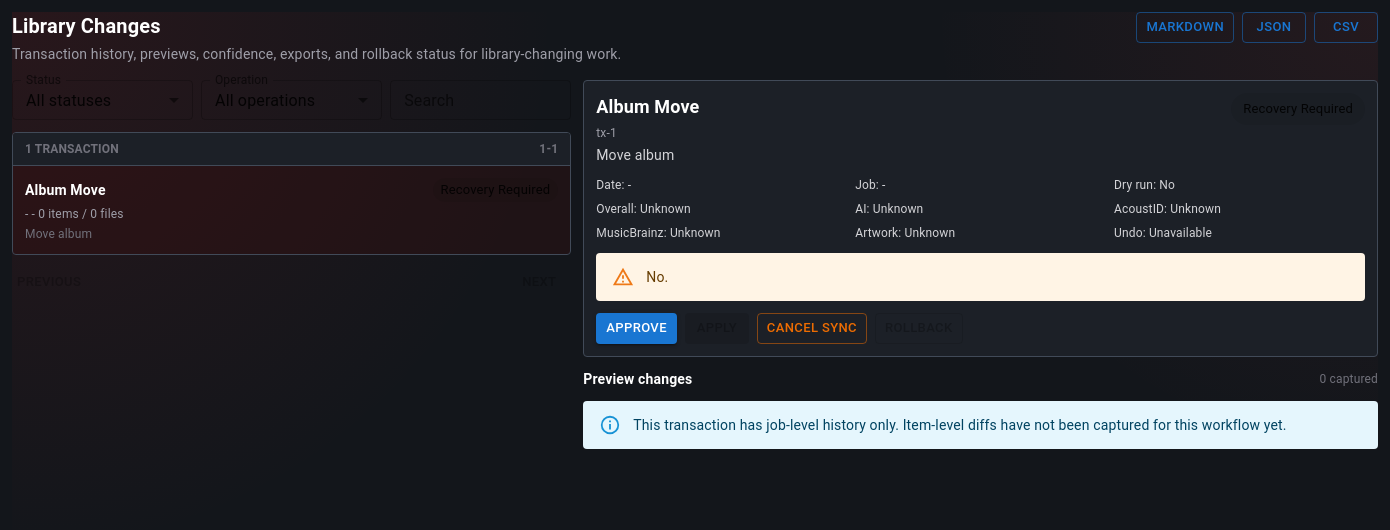
Scenario: Library Changes 0.4 transaction contract (#348) › enables Cancel Sync when the server reports engine mode, and reports the engine cancel (#356)
The width and height of the screenshot is (1390, 530).
Click the button "Cancel Sync" at x=812, y=328, box [757, 313, 867, 344]
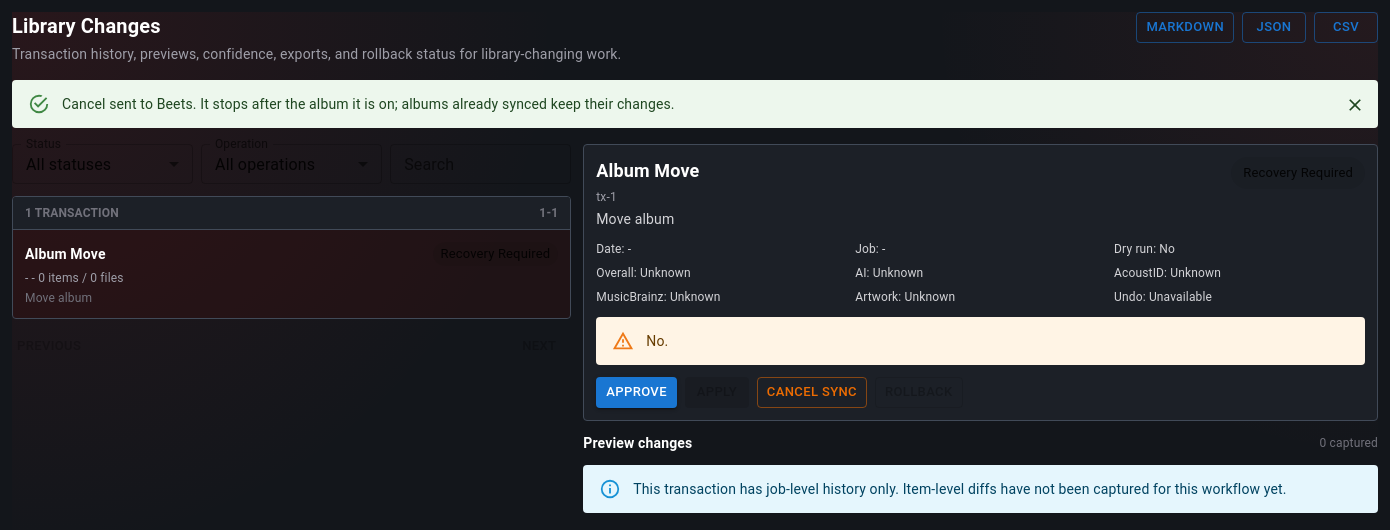
Expected: the text "Cancel sent to Beets" is shown, [62, 96, 675, 112]
